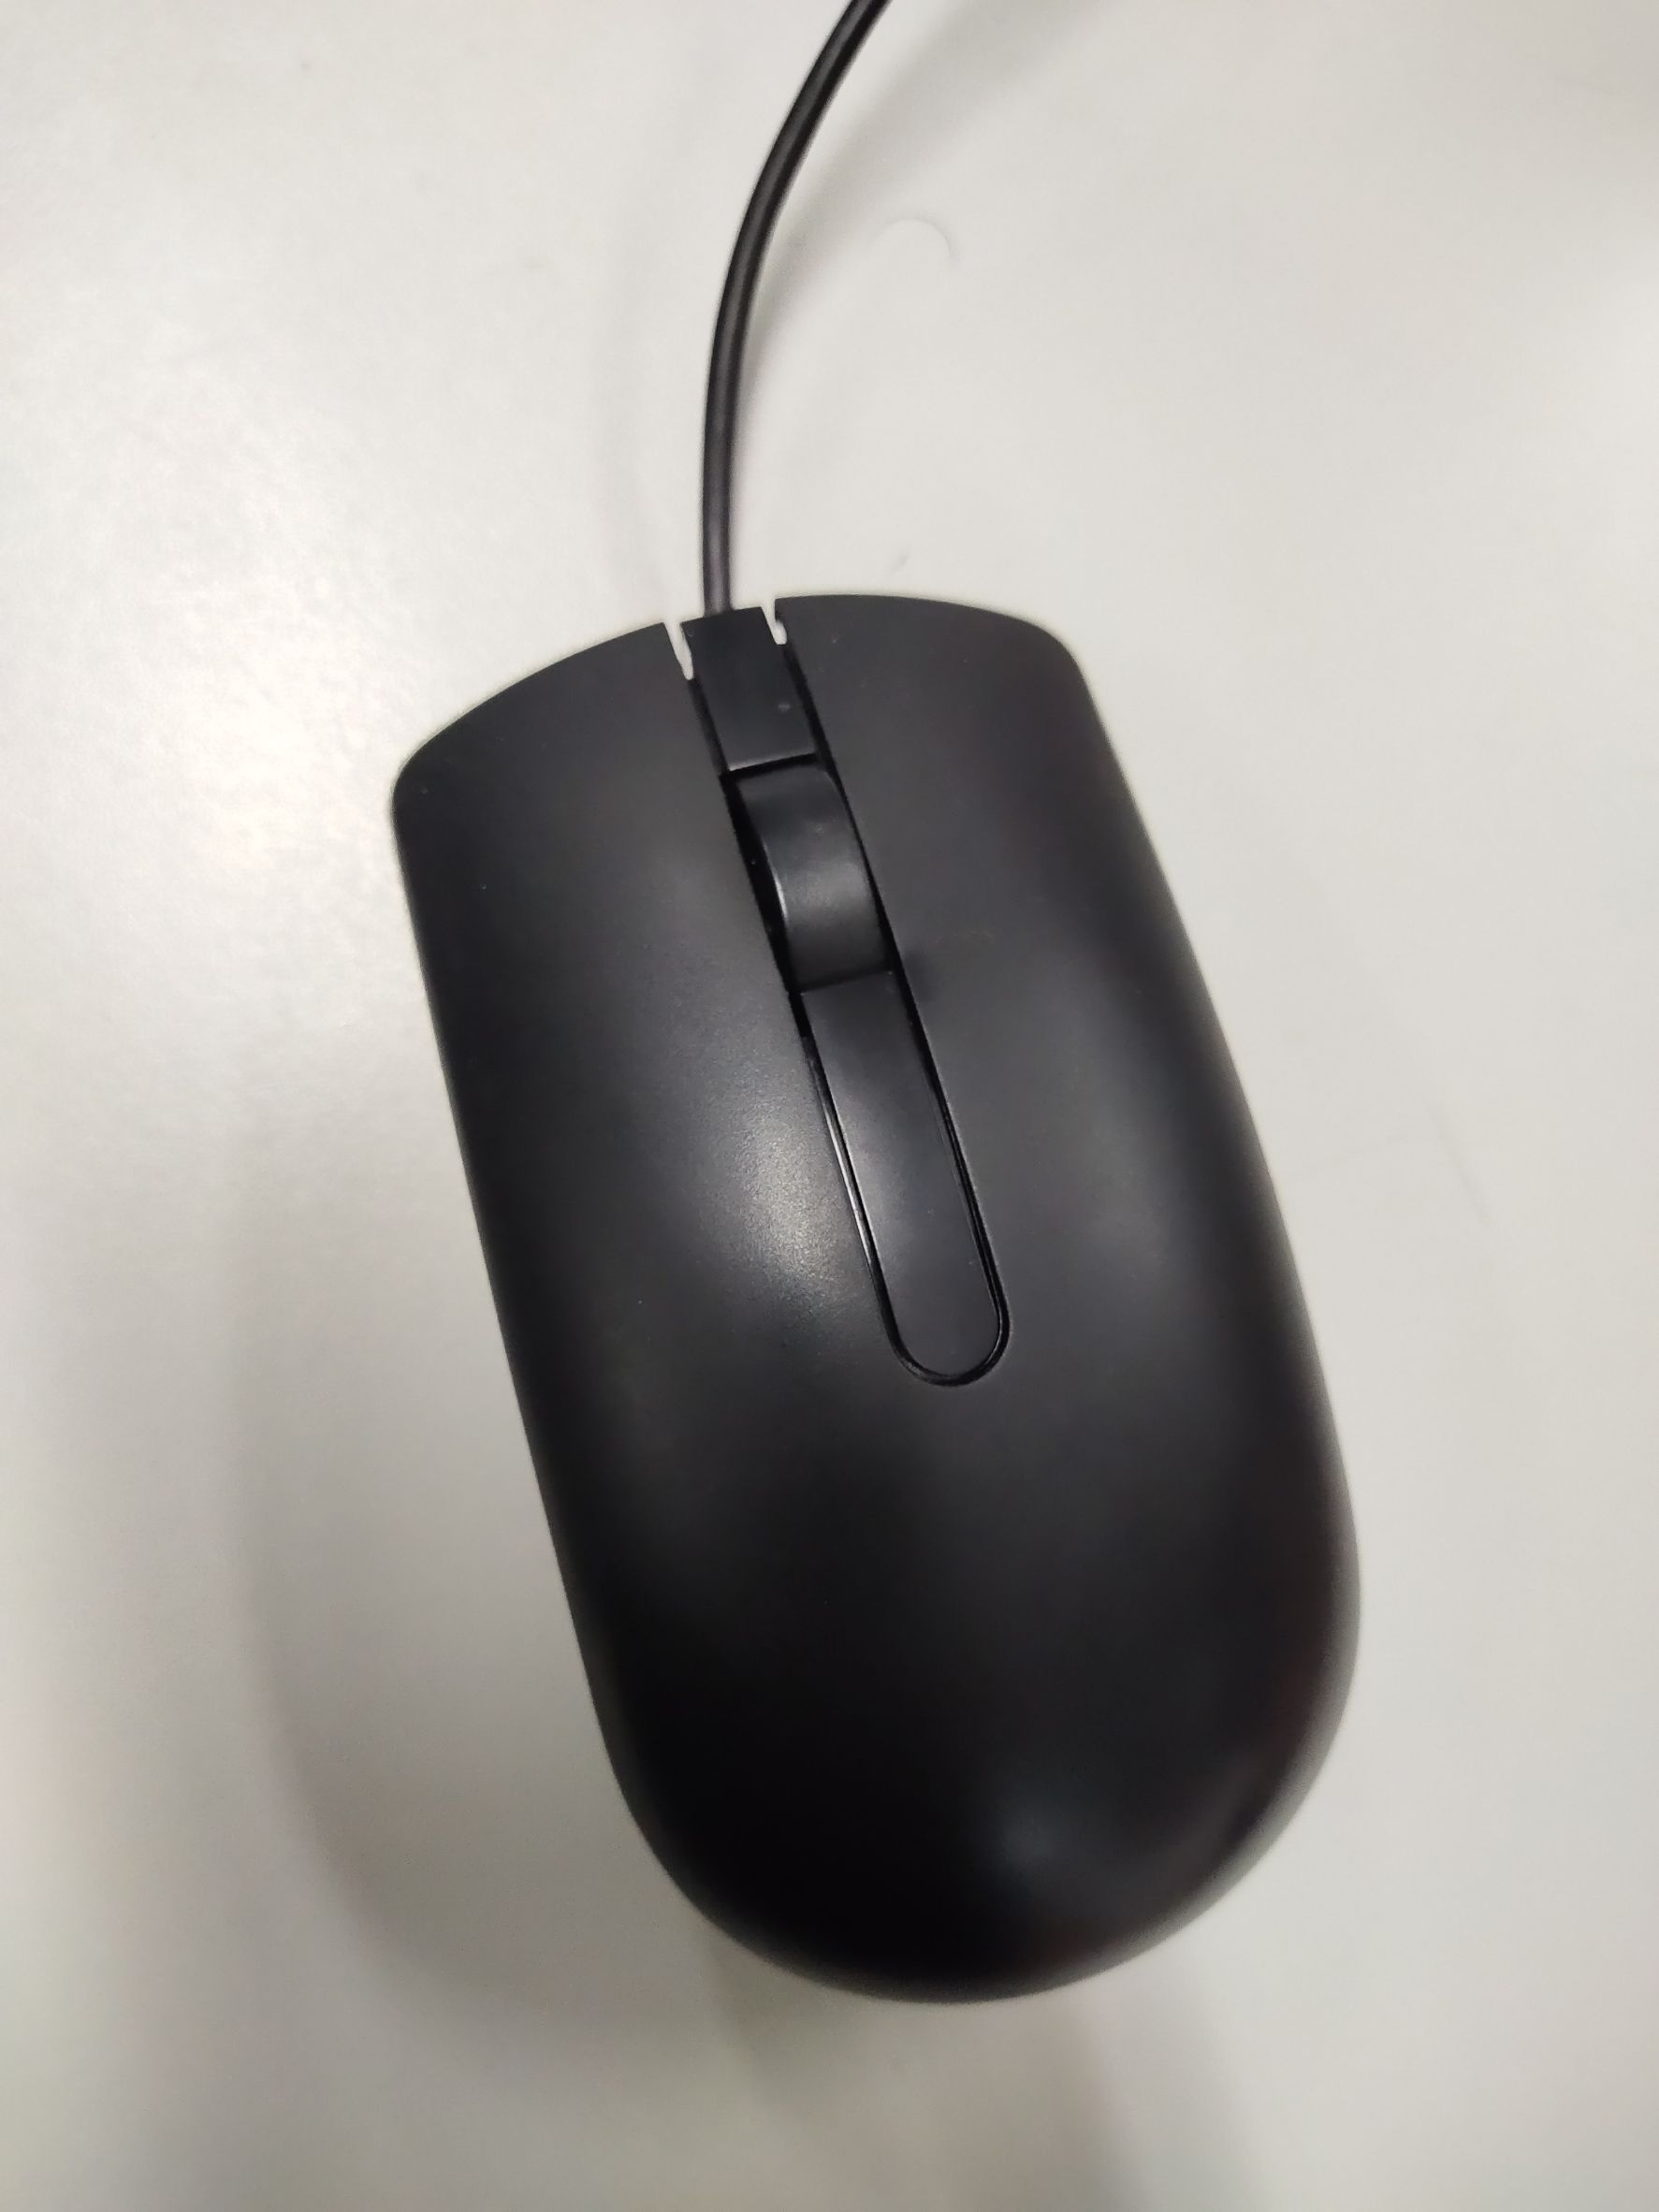mouse: (300, 575, 1518, 2069)
